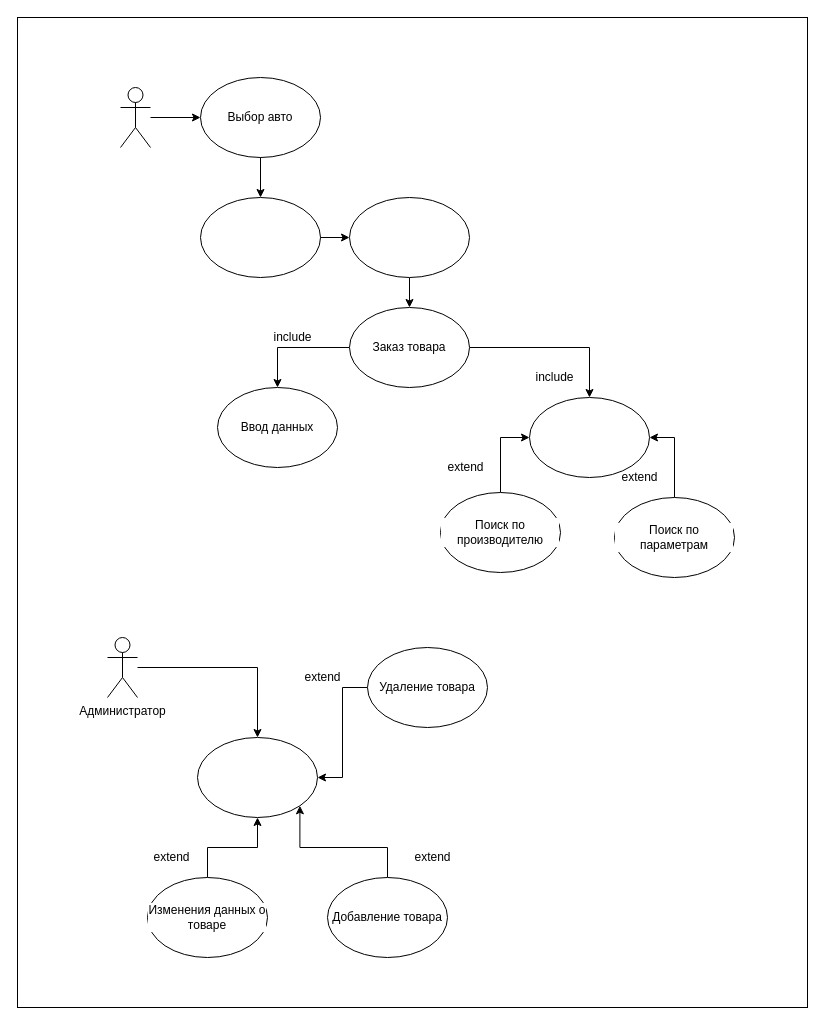
Some shapes in this 825 by 1025 pixel diagram are drawn without their labels. Here are the shapes that lost their labels. From the top down, the box of each, then its label:
(120, 86, 150, 148): Пользователь
(200, 196, 320, 278): Выбор товара
(348, 196, 470, 278): Добавление в корзину
(528, 396, 650, 478): Поиск товара
(196, 736, 318, 818): Введение данных о товаре
